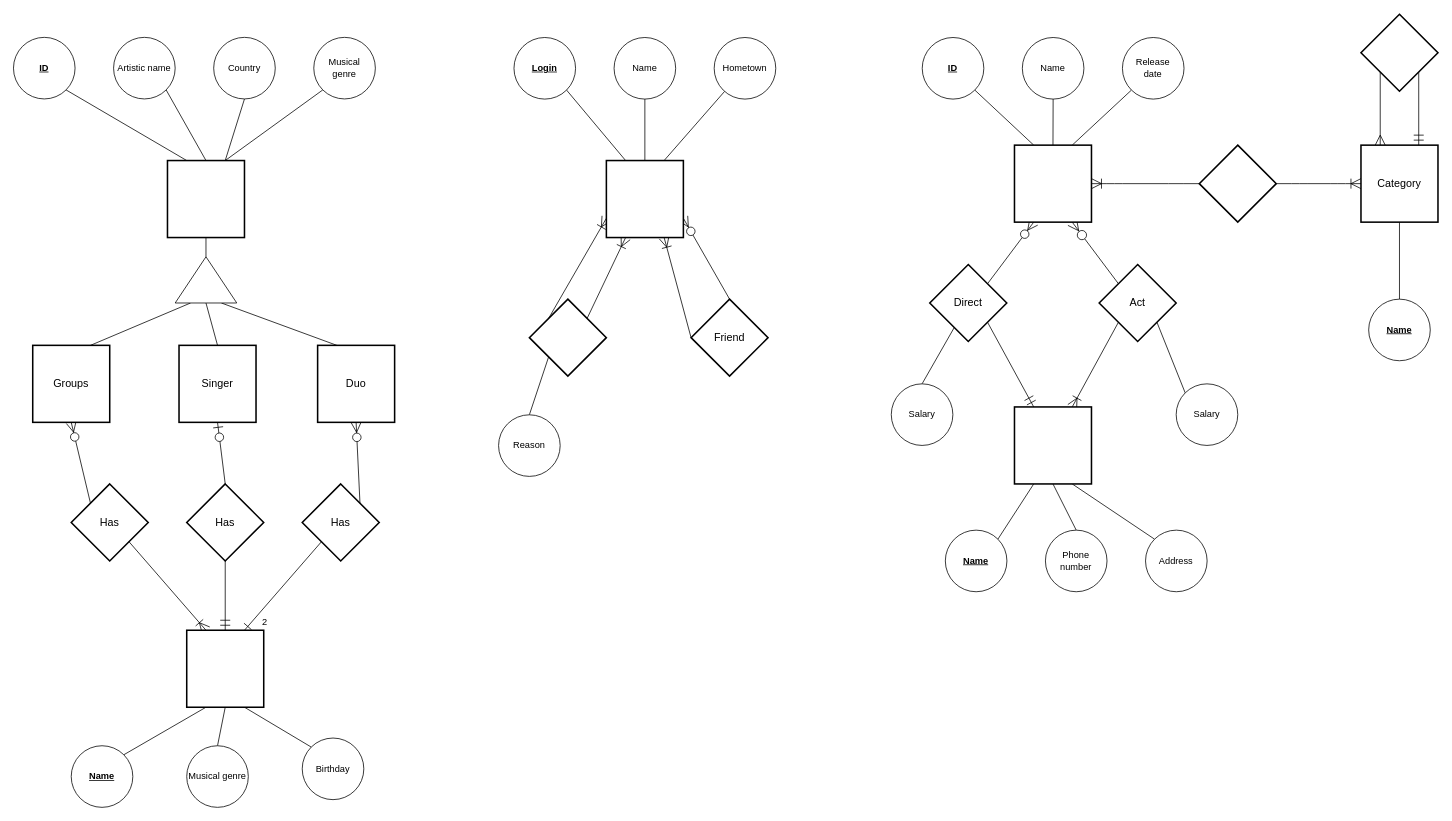
This 1452x821 diagram has some shape labels left out. The shapes that lost their labels are listed below. From the top down, each one's box as (x1, y1, x2, y2) in pixels, then its label:
(1360, 13, 1438, 92): Supercategory
(166, 159, 245, 238): Musical artist
(605, 159, 684, 238): User
(1013, 144, 1092, 223): Movie
(1198, 144, 1277, 223): In
(528, 298, 607, 377): Block
(1013, 406, 1092, 484): Person
(186, 629, 264, 708): Musician
